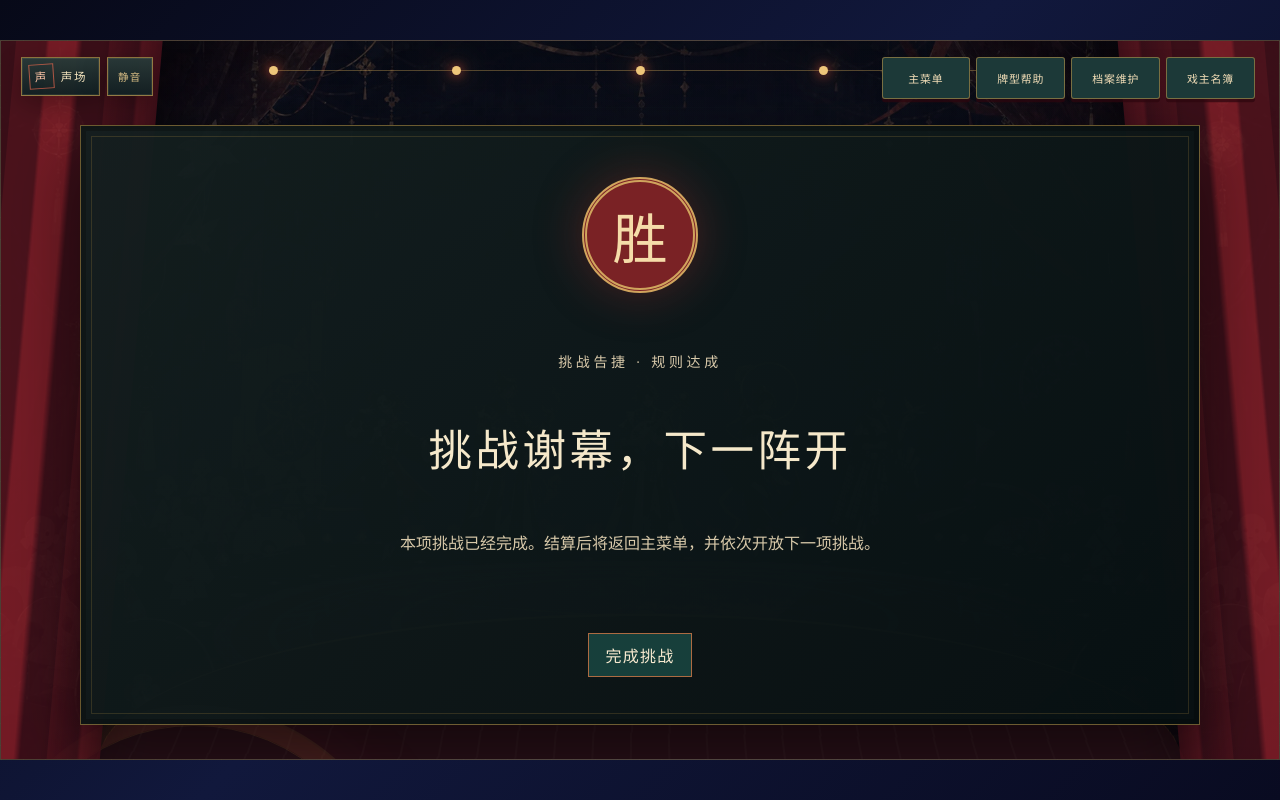
Test case: 八幕胜利选择 › 挑战胜利只能完成挑战，不能进入无尽加演
Expected: the heading "挑战谢幕，下一阵开" is shown, x1=428 y1=416 x2=852 y2=479
Step 1. Click the button "完成挑战" → (640, 655), box x1=588 y1=633 x2=692 y2=677
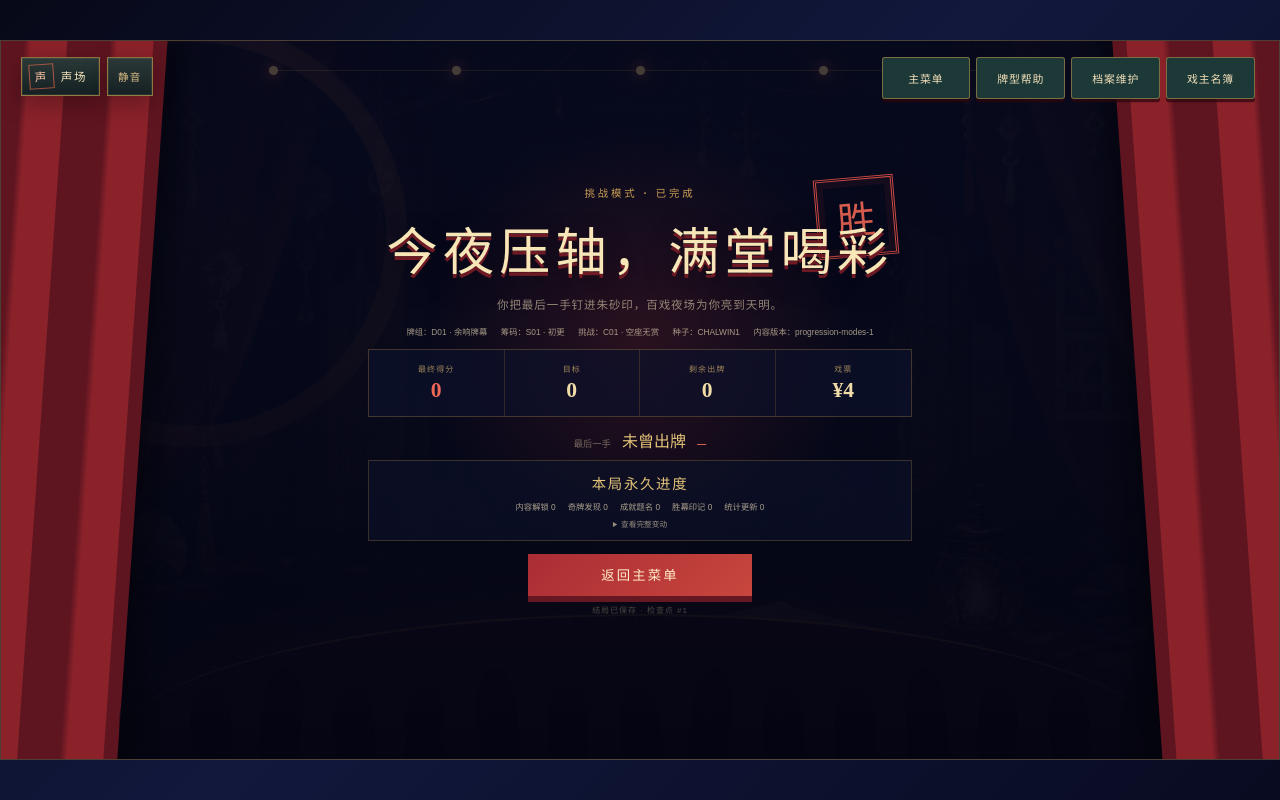
Now the heading "今夜压轴，满堂喝彩" is shown, box x1=387 y1=211 x2=893 y2=285
